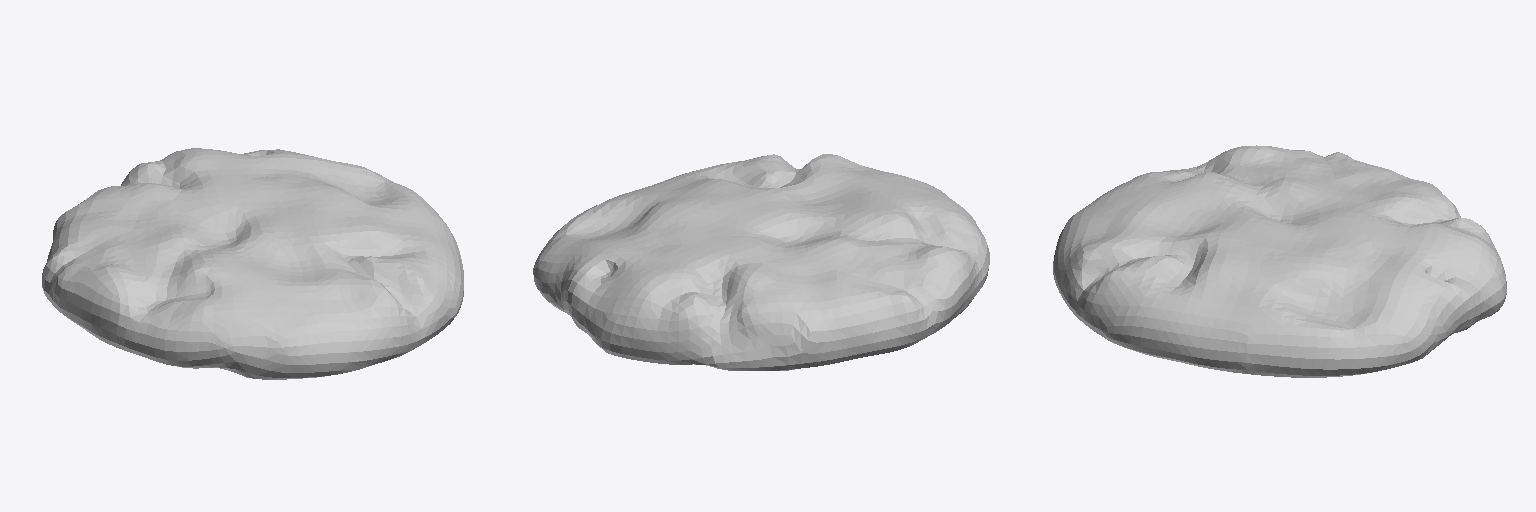
File: cookie.obj
3 renders of one model, left to right at view 1: azimuth 30°, elevation 25°; view 2: azimuth 150°, elevation 25°; view 3: azimuth 270°, elevation 25°, orthographic.
Parts seen in each view (by area): view 1: cookieLowPoly_cookie1.003; view 2: cookieLowPoly_cookie1.003; view 3: cookieLowPoly_cookie1.003.
Part boxes in pixels (x1,y1,x2,y2): cookieLowPoly_cookie1.003: (42, 148, 463, 379); cookieLowPoly_cookie1.003: (533, 154, 989, 370); cookieLowPoly_cookie1.003: (1053, 145, 1506, 377).
Size of the model in its own units: 3.51 by 0.659 by 3.62.